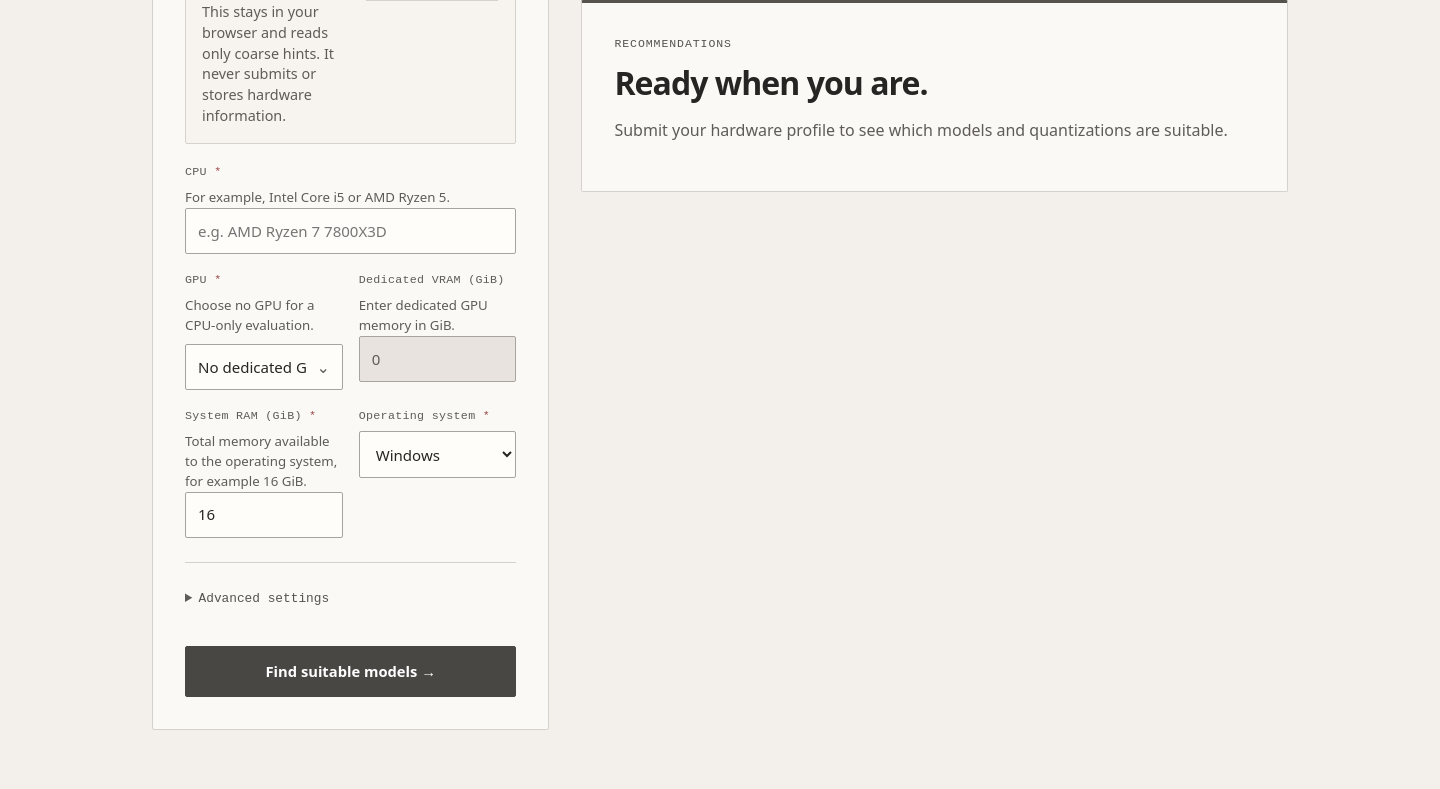
Test case: recommendations interface › shows the three added sourced cache estimates and provenance in model recommendations
(page scrolled)
Replace the text in the number field labelled "System RAM (GiB)" with "256" at (264, 515), box [185,492,343,538]
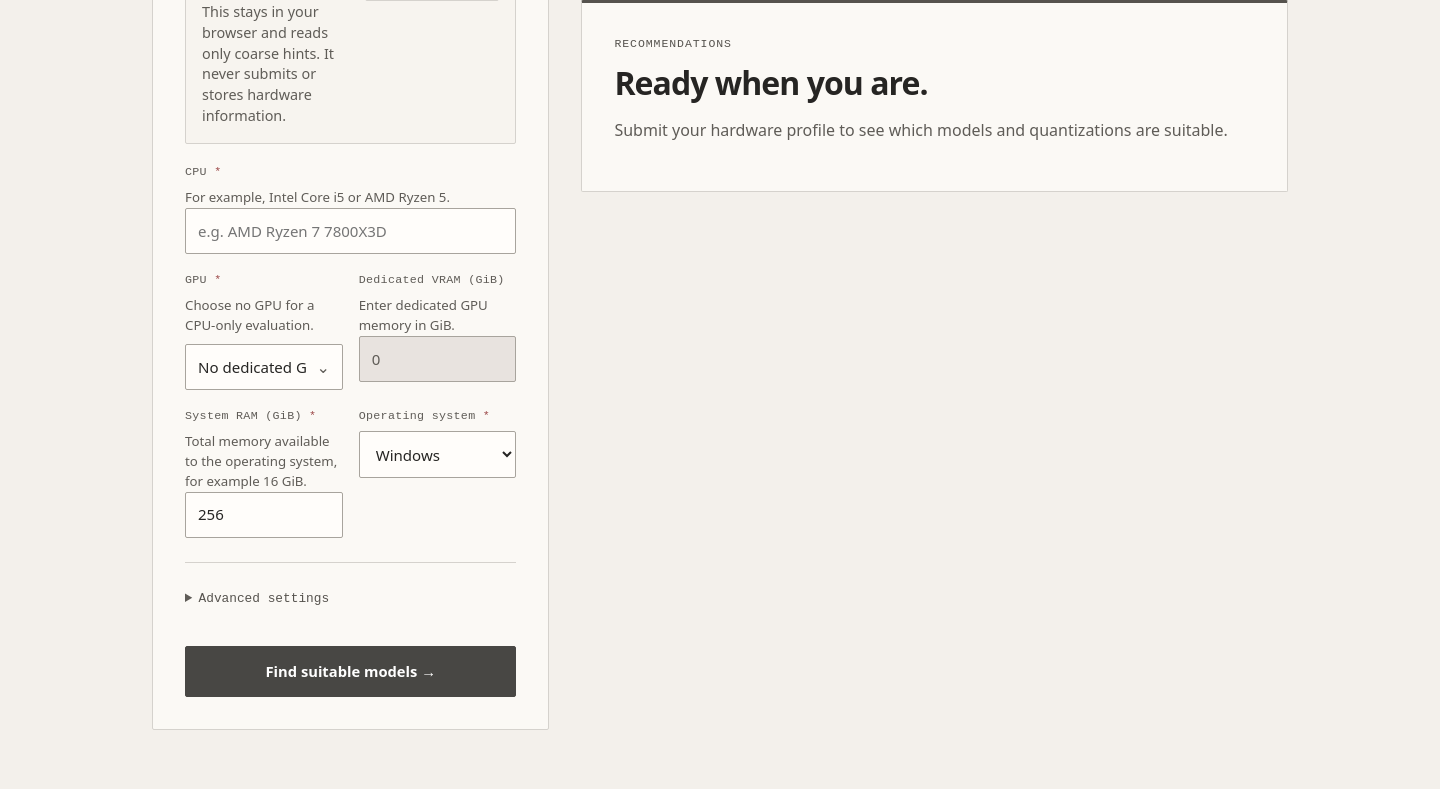
Click the heading "Advanced settings" at (264, 598), box [198,591,329,606]
(page scrolled)
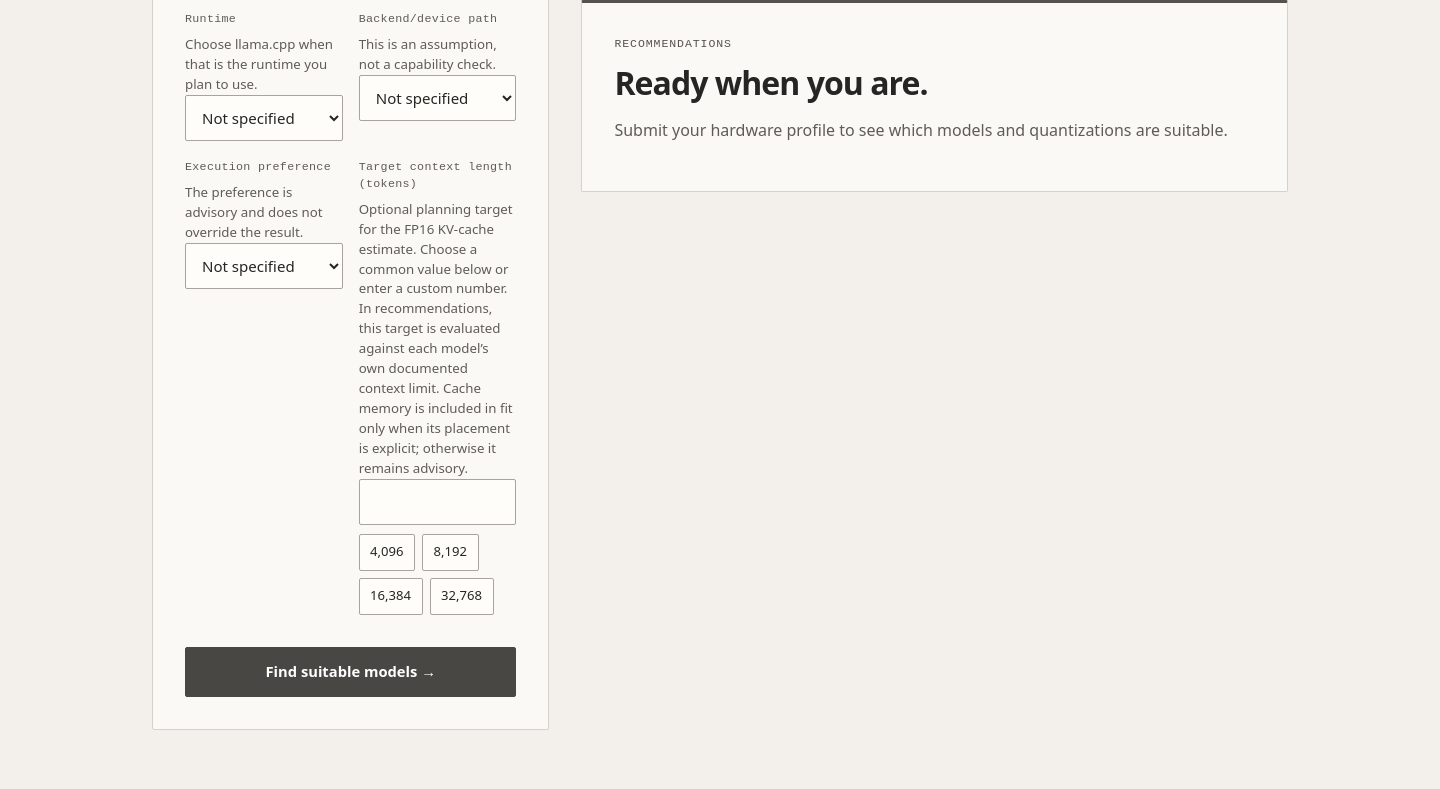
Type "4096" into the number field labelled "Target context length (tokens)" at (438, 502), box [359,479,516,525]
(page scrolled)
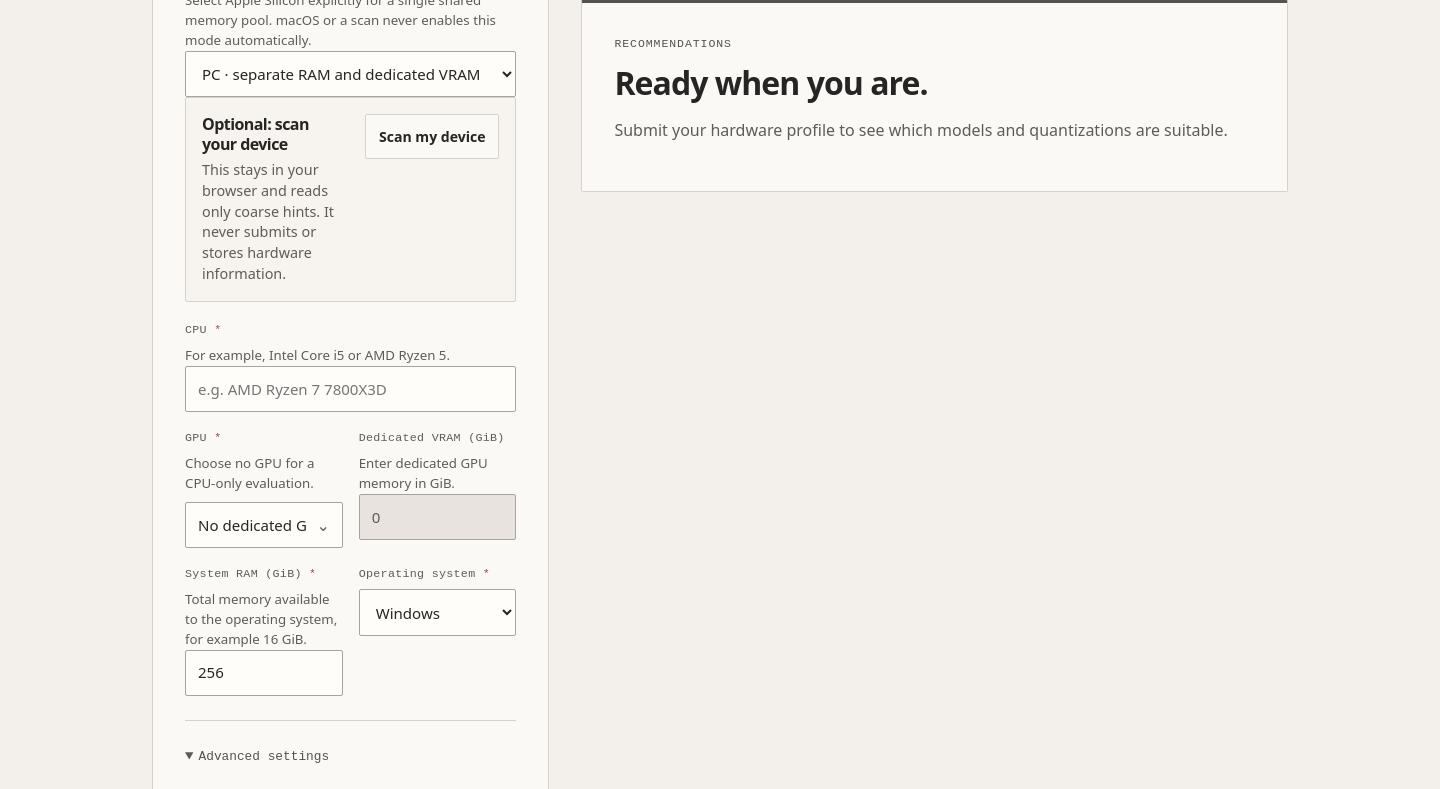
Type "AMD Ryzen 7 7800X3D" into the field labelled "CPU" at (351, 389), box [185,366,516,412]
(page scrolled)
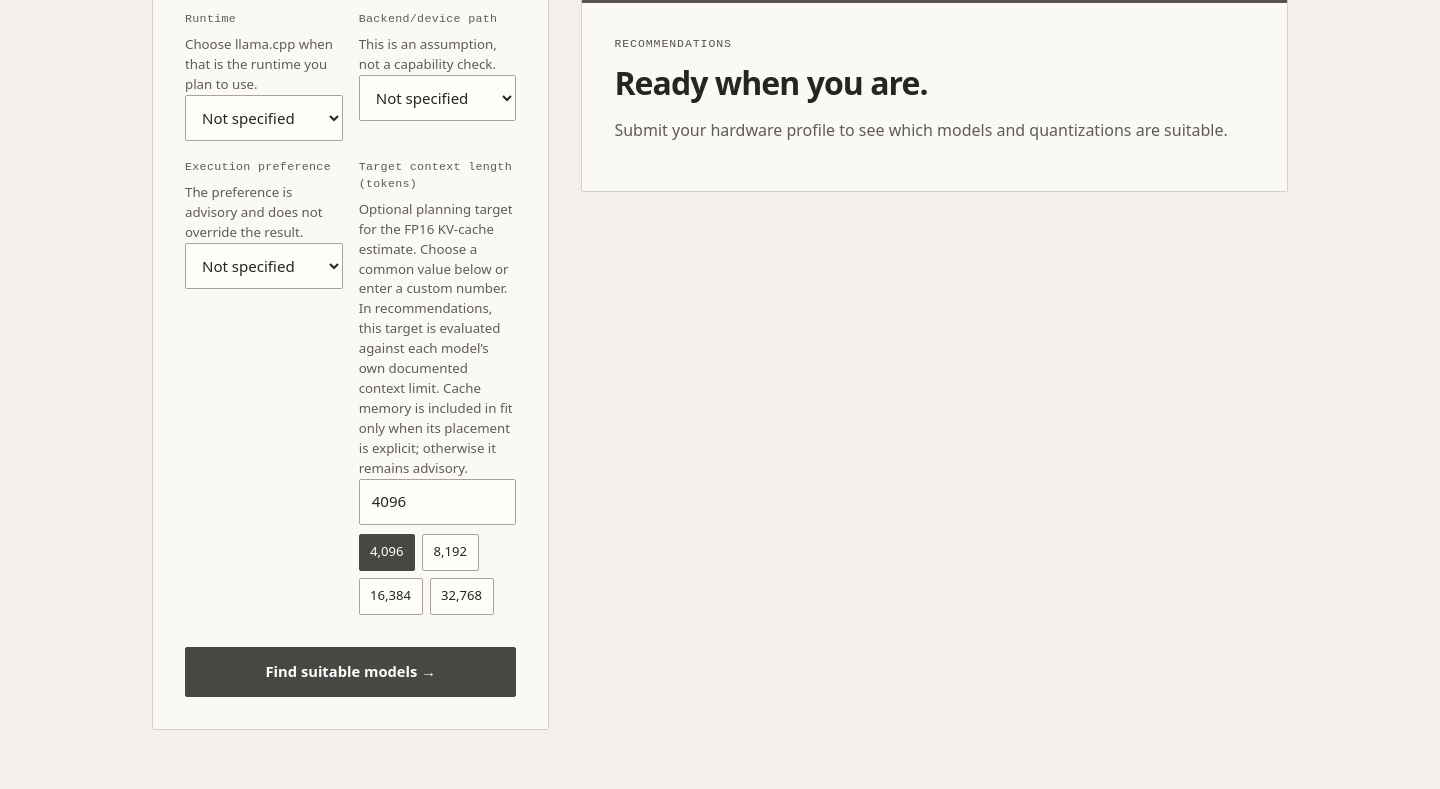
Click the button "Find suitable models →" at (351, 672), box [185,647,516,697]
(page scrolled)
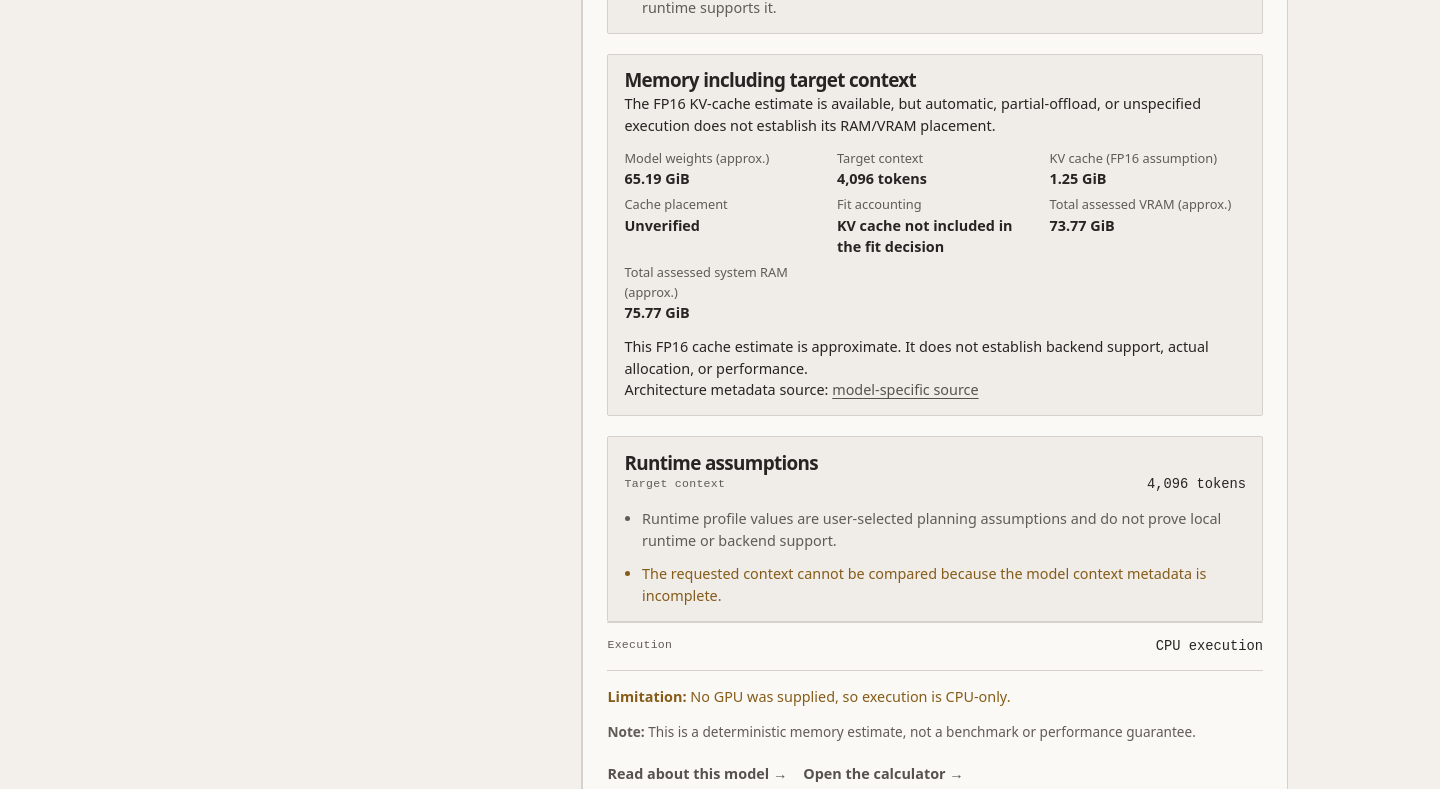
expect the link to "https://github.com/meta-llama/llama-models/blob/main/models/sku_list.py" is shown: met, box [832,380,979,400]
